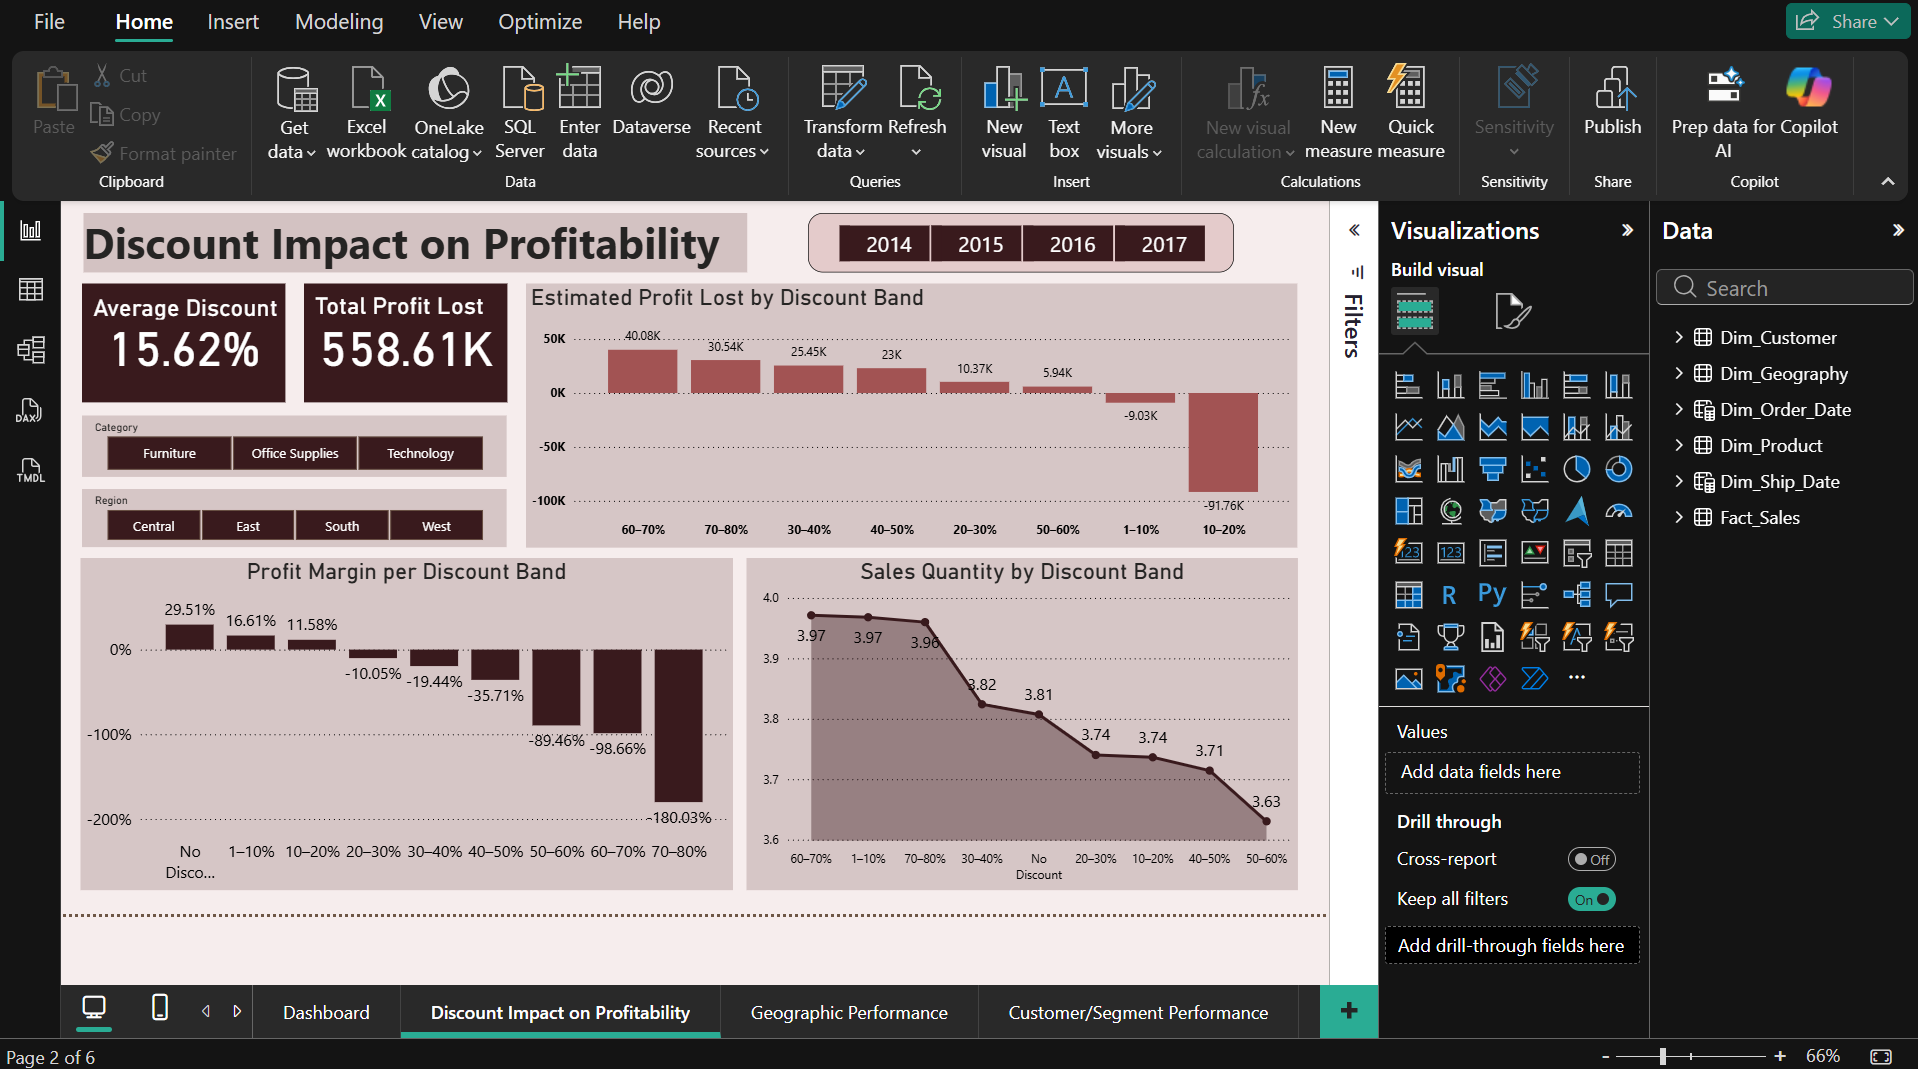

The dashboard page shown, as its layout file describes it:
{"tool":"powerbi","page":{"name":"Discount Impact on Profitability","canvas":[1280,720],"ordinal":1},"visuals":[{"type":"card","fields":{"Values":["Avg(Fact_Sales.Discount)"]},"box":[21.1,82.7,205,120],"z":0},{"type":"textbox","box":[11.4,88.6,227.1,37.1],"z":1000},{"type":"card","fields":{"Values":["Fact_Sales.Estimated Profit Lost"]},"box":[245.1,82.7,205,120],"z":2000},{"type":"textbox","box":[251.4,85.7,204.3,44.3],"z":3000},{"type":"slicer","fields":{"Values":["Dim_Order_Date.Year"]},"box":[754,12,430,60],"z":4000},{"type":"clusteredColumnChart","title":"Profit Margin per Discount Band","fields":{"Y":["Fact_Sales.Profit Margin Percentage"],"Category":["Fact_Sales.Discount Band"]},"box":[20,360,658.3,335],"z":5000},{"type":"lineChart","title":"Sales Quantity by Discount Band","fields":{"Category":["Fact_Sales.Discount Band"],"Y":["Avg(Fact_Sales.Quantity)"]},"box":[691.7,360,556.7,335],"z":6000},{"type":"textbox","box":[22,12,670,60],"z":7000},{"type":"clusteredColumnChart","fields":{"Y":["Fact_Sales.Estimated Profit Lost"],"Category":["Fact_Sales.Discount Band"]},"box":[470,83.3,778.3,266.7],"z":8000},{"type":"slicer","fields":{"Values":["Dim_Product.Category"]},"box":[21.7,216.7,428.3,61.7],"z":9000},{"type":"slicer","fields":{"Values":["Dim_Geography.Region"]},"box":[21.4,291.4,428.6,58.6],"z":10000}]}

Visuals, with their boxes on the page's 1280x720 design canvas (x1, y1, x2, y2). These are canvas units, not pixel positions in the 1918x1069 screenshot, which may show the page scaled, cropped or inside an application window:
card - Avg(Fact_Sales.Discount): {"left": 21, "top": 83, "right": 226, "bottom": 203}
textbox: {"left": 11, "top": 89, "right": 238, "bottom": 126}
card - Fact_Sales.Estimated Profit Lost: {"left": 245, "top": 83, "right": 450, "bottom": 203}
textbox: {"left": 251, "top": 86, "right": 456, "bottom": 130}
slicer - Dim_Order_Date.Year: {"left": 754, "top": 12, "right": 1184, "bottom": 72}
"Profit Margin per Discount Band" clusteredColumnChart: {"left": 20, "top": 360, "right": 678, "bottom": 695}
"Sales Quantity by Discount Band" lineChart: {"left": 692, "top": 360, "right": 1248, "bottom": 695}
textbox: {"left": 22, "top": 12, "right": 692, "bottom": 72}
clusteredColumnChart - Fact_Sales.Estimated Profit Lost x Fact_Sales.Discount Band: {"left": 470, "top": 83, "right": 1248, "bottom": 350}
slicer - Dim_Product.Category: {"left": 22, "top": 217, "right": 450, "bottom": 278}
slicer - Dim_Geography.Region: {"left": 21, "top": 291, "right": 450, "bottom": 350}
